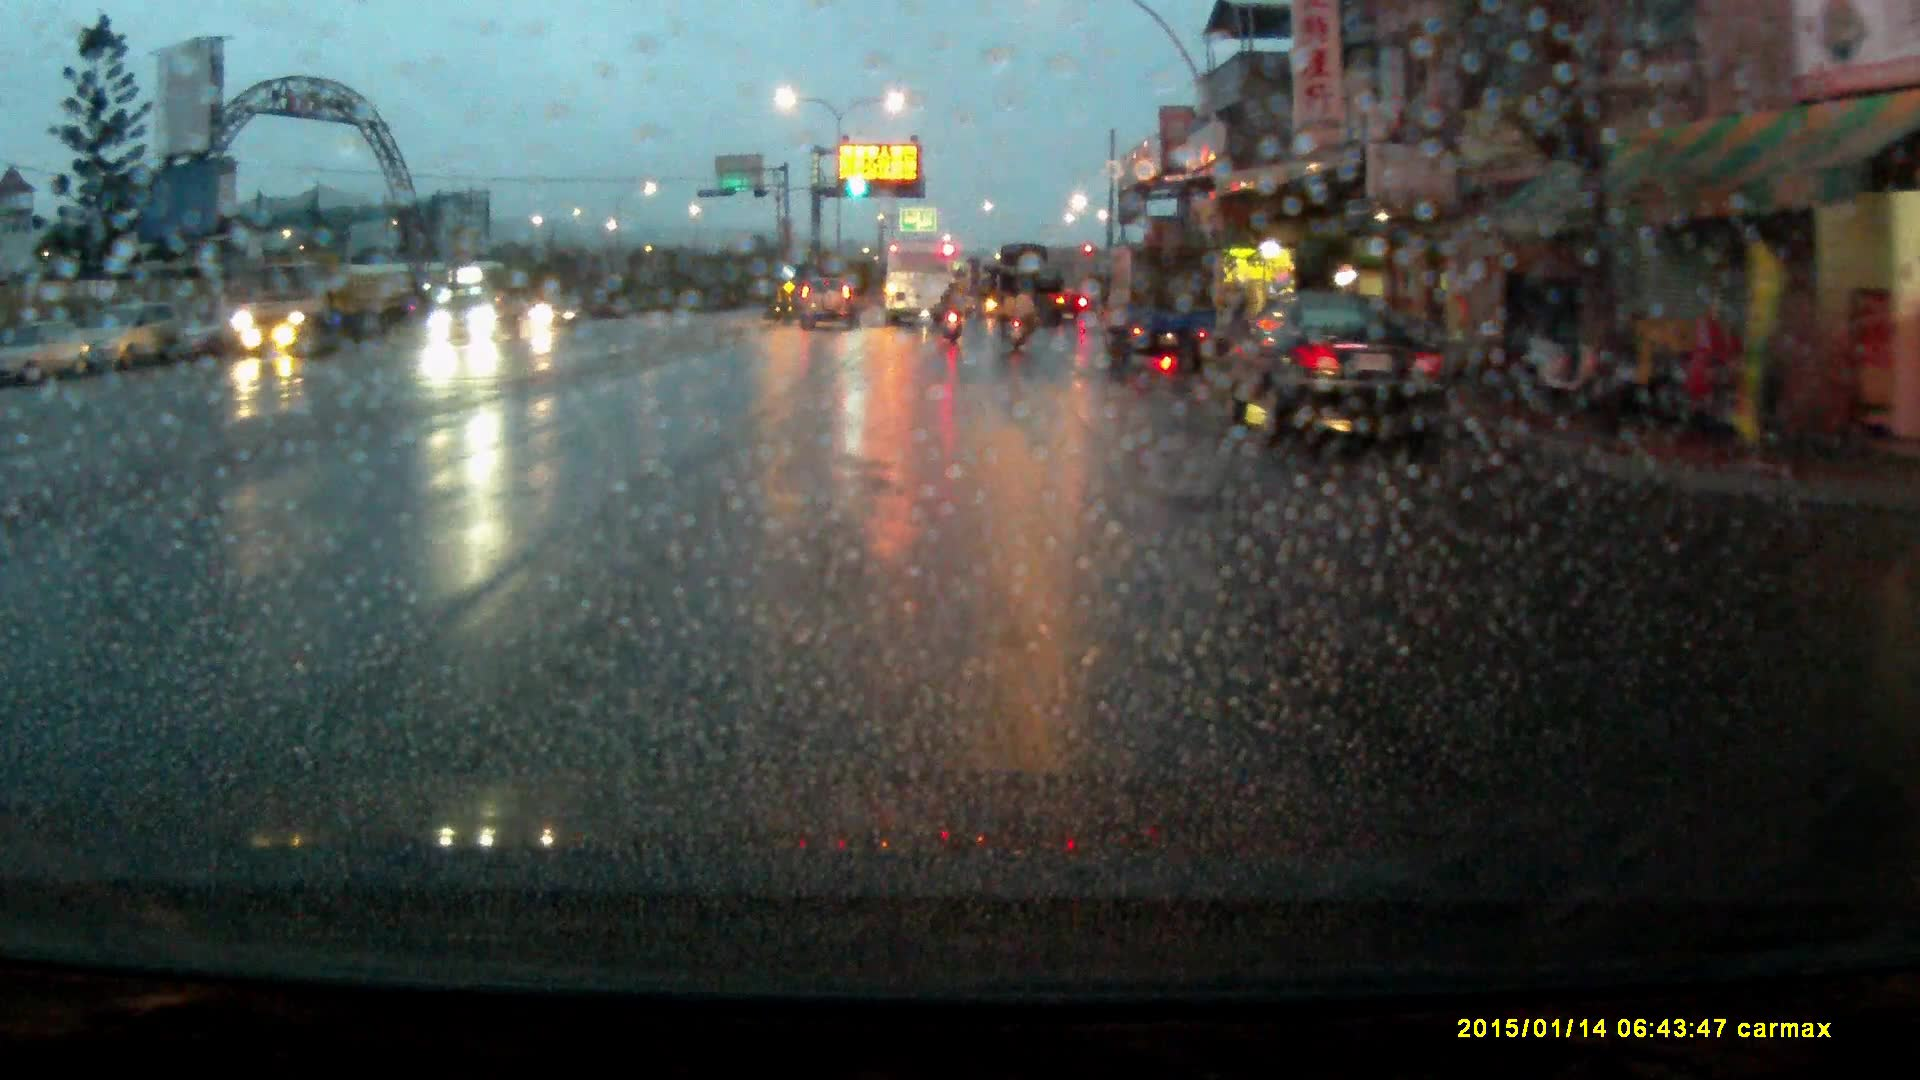rider: (995, 276, 1031, 359), (942, 280, 967, 349)
vehicle: (1222, 297, 1453, 449), (232, 259, 413, 361), (1099, 250, 1220, 371), (72, 308, 173, 379), (998, 245, 1069, 333), (884, 248, 952, 332), (10, 323, 94, 391), (425, 295, 521, 349), (798, 278, 861, 338), (532, 294, 586, 338)
